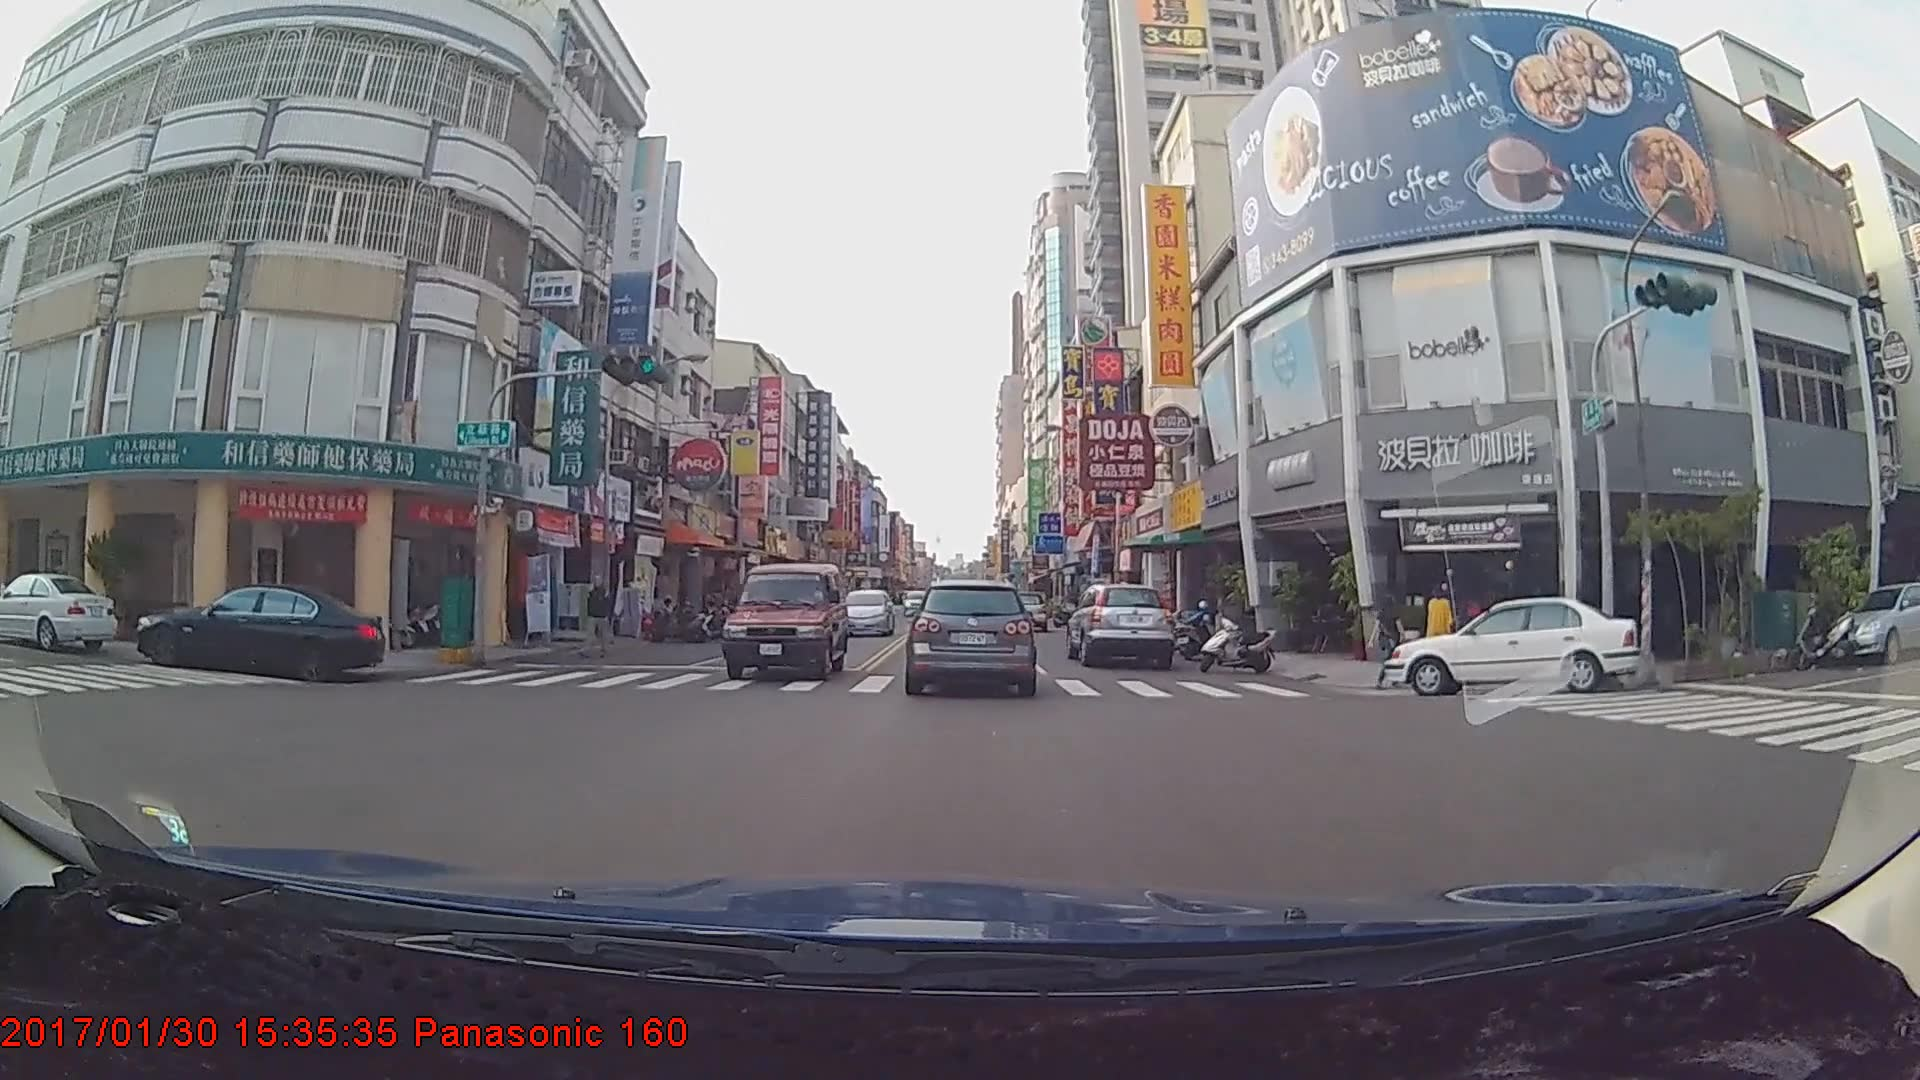pedestrian: (1376, 592, 1409, 691), (1427, 582, 1457, 668), (584, 571, 615, 655)
vehicle: (1380, 593, 1644, 694), (133, 576, 384, 680), (717, 561, 849, 680), (906, 580, 1035, 693), (1065, 579, 1176, 669), (0, 569, 117, 649), (1828, 580, 1920, 661), (835, 587, 894, 635), (1001, 588, 1046, 630)
